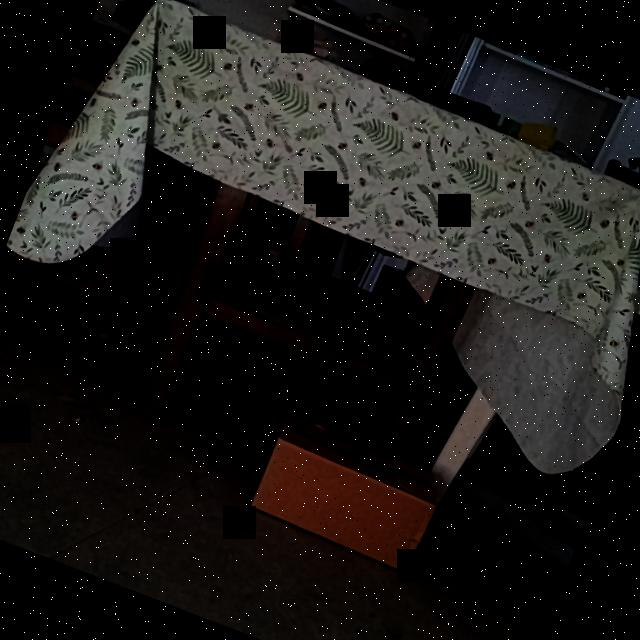box: (250, 441, 436, 570)
